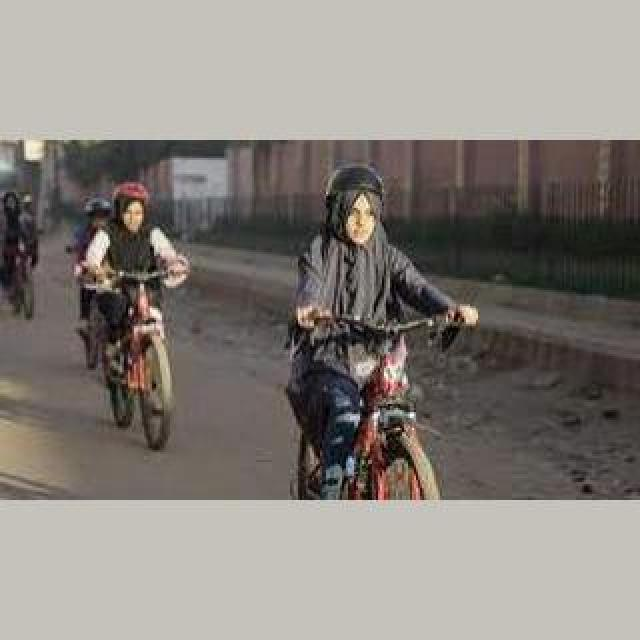MC-Bike: (286, 164, 480, 494), (94, 184, 190, 422)
Person: (288, 306, 460, 498), (94, 264, 186, 452)
